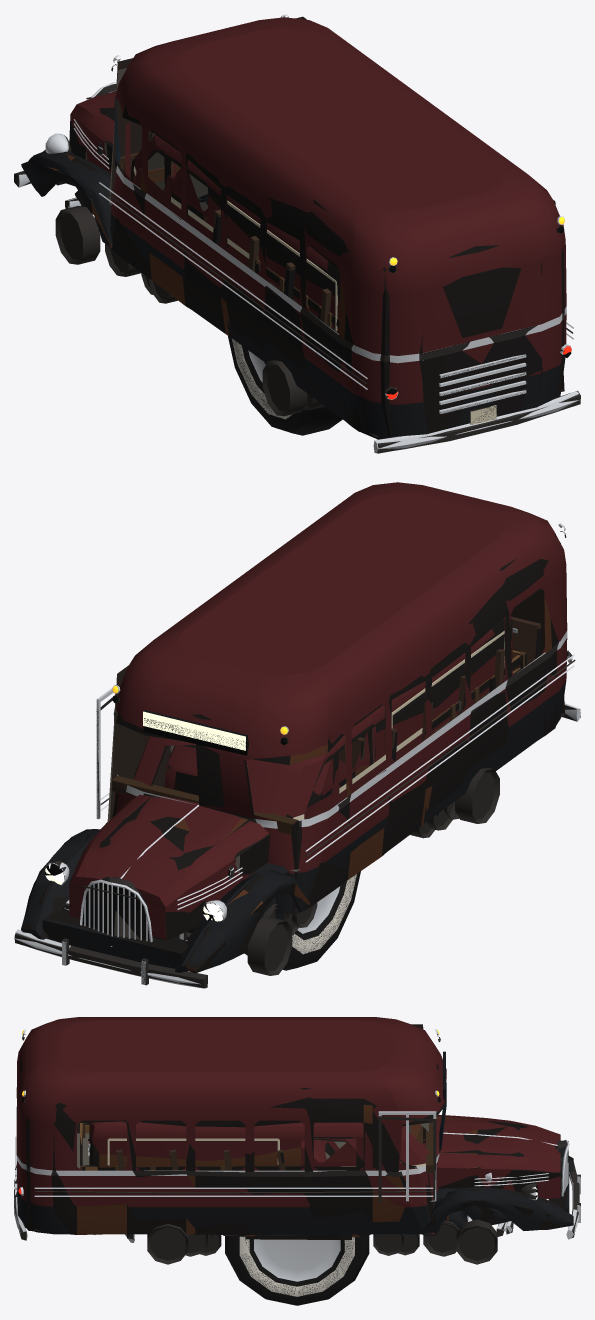
Rendered from vehicles.798fbdfc.glb.
3 views of the same model, one above another, from view 1: azimuth 30°, elevation 25°; view 2: azimuth 150°, elevation 25°; view 3: azimuth 270°, elevation 25° (orthographic). The views are drawn at different scales.
Parts seen in each view (by area): view 1: bus_lod0, bus_wreck, van_lod0, van_wreck, wheel_ww_lod0, truck_wreck, truck_door_fl_lod0_hingeF, truck_lod0; view 2: bus_lod0, bus_wreck, van_lod0, van_wreck, wheel_ww_lod0, truck_wreck, truck_lod0, van_door_fl_lod0_hingeF, truck_door_fl_lod0_hingeF; view 3: bus_lod0, bus_wreck, wheel_ww_lod0, van_lod0, van_wreck, bus_door_fr_lod0_hingeF, speedster_wreck, truck_lod0, sedan_wreck, wheel_bk_lod0, truck_door_fr_lod0_hingeF, truck_wreck (+2 smaller).
Part boxes in pixels (box(x1,y1,x2,y2)): bus_lod0: box(19, 14, 578, 453); bus_wreck: box(14, 64, 580, 453); van_lod0: box(124, 122, 339, 331); van_wreck: box(80, 133, 340, 298); wheel_ww_lod0: box(228, 336, 342, 435); truck_wreck: box(65, 142, 339, 410); truck_door_fl_lod0_hingeF: box(171, 168, 207, 217); truck_lod0: box(67, 146, 338, 329); bus_lod0: box(14, 482, 580, 988); bus_wreck: box(15, 531, 580, 988); van_lod0: box(134, 615, 517, 816); van_wreck: box(134, 618, 512, 920); wheel_ww_lod0: box(244, 871, 360, 970); truck_wreck: box(65, 652, 526, 940); truck_lod0: box(64, 650, 526, 940); van_door_fl_lod0_hingeF: box(285, 749, 339, 819); truck_door_fl_lod0_hingeF: box(313, 732, 369, 794); bus_lod0: box(14, 1017, 580, 1239); bus_wreck: box(14, 1034, 580, 1264); wheel_ww_lod0: box(225, 1235, 369, 1305); van_lod0: box(88, 1121, 507, 1231); van_wreck: box(88, 1122, 506, 1256); bus_door_fr_lod0_hingeF: box(378, 1115, 435, 1234); speedster_wreck: box(193, 1234, 425, 1255); truck_lod0: box(80, 1123, 514, 1238); sedan_wreck: box(128, 1142, 467, 1255); wheel_bk_lod0: box(232, 1236, 362, 1305); truck_door_fr_lod0_hingeF: box(301, 1138, 356, 1166); truck_wreck: box(80, 1125, 513, 1256).
Size of what is drawn, in the model's own units: 2.44 by 3.8 by 7.67.
1 material, 1 textured.
